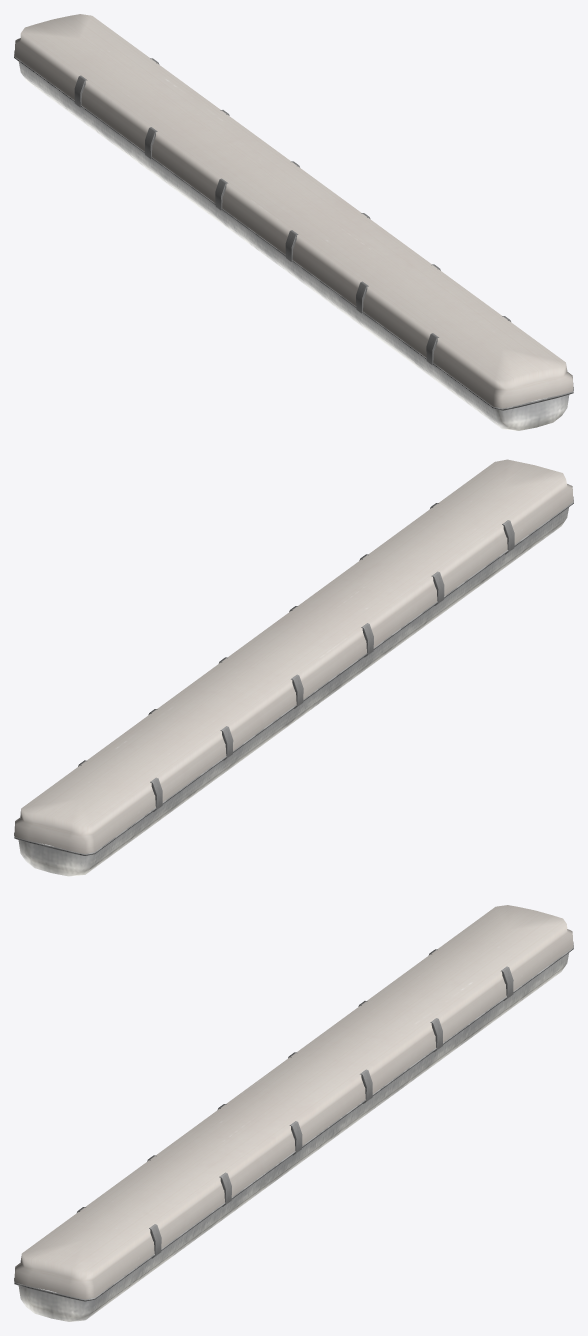
File: SM_Light_01a.fbx
3 renders of one model, top to bottom at view 1: azimuth 30°, elevation 25°; view 2: azimuth 150°, elevation 25°; view 3: azimuth 330°, elevation 25°, orthographic.
Visible parts, largest first — view 1: SM_Light_01a; view 2: SM_Light_01a; view 3: SM_Light_01a.
Boxes of the visible parts, x1,y1,x2,y2 form: SM_Light_01a: [14, 14, 573, 430]; SM_Light_01a: [14, 459, 573, 876]; SM_Light_01a: [14, 905, 573, 1321].
Bounding box in the file's own units: 14.39 × 148 × 9.69.
2 materials, 2 textured.
